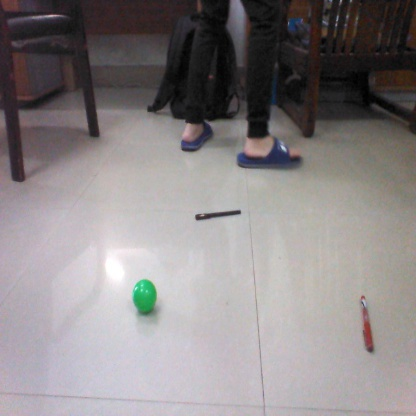ball: (131, 279, 161, 312)
pen: (360, 293, 377, 353), (195, 209, 241, 224)
